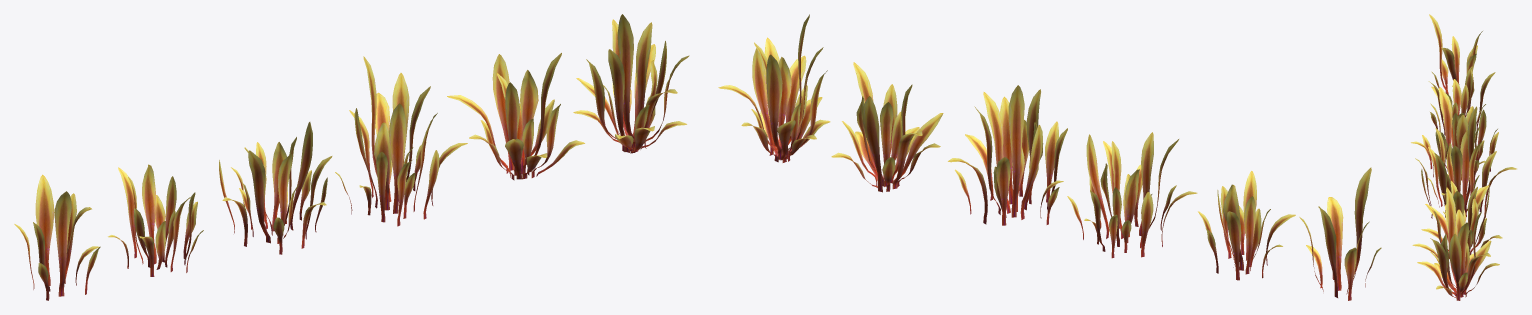
Rendered from green_reeds_relative.glb.
3 renders of one model, left to right at view 1: azimuth 30°, elevation 25°; view 2: azimuth 150°, elevation 25°; view 3: azimuth 270°, elevation 25°, orthographic. The views are drawn at different scales.
Parts seen in each view (by area): view 1: Coral_reef_green_reeds_04, Coral_reef_green_reeds_06, Coral_reef_green_reeds_05, Coral_reef_green_reeds_03, Coral_reef_green_reeds_02, Coral_reef_green_reeds_01; view 2: Coral_reef_green_reeds_04, Coral_reef_green_reeds_06, Coral_reef_green_reeds_05, Coral_reef_green_reeds_03, Coral_reef_green_reeds_02, Coral_reef_green_reeds_01; view 3: Coral_reef_green_reeds_06, Coral_reef_green_reeds_04, Coral_reef_green_reeds_03, Coral_reef_green_reeds_05, Coral_reef_green_reeds_02, Coral_reef_green_reeds_01.
Part boxes in pixels (<box>): Coral_reef_green_reeds_04: <box>335,56,467,226</box>; Coral_reef_green_reeds_06: <box>573,14,689,153</box>; Coral_reef_green_reeds_05: <box>447,53,584,180</box>; Coral_reef_green_reeds_03: <box>219,122,332,254</box>; Coral_reef_green_reeds_02: <box>108,164,203,276</box>; Coral_reef_green_reeds_01: <box>14,174,100,300</box>; Coral_reef_green_reeds_04: <box>948,85,1067,225</box>; Coral_reef_green_reeds_06: <box>718,14,830,162</box>; Coral_reef_green_reeds_05: <box>831,62,943,192</box>; Coral_reef_green_reeds_03: <box>1067,132,1197,258</box>; Coral_reef_green_reeds_02: <box>1198,171,1295,280</box>; Coral_reef_green_reeds_01: <box>1299,167,1381,300</box>; Coral_reef_green_reeds_06: <box>1412,187,1499,300</box>; Coral_reef_green_reeds_04: <box>1415,106,1516,218</box>; Coral_reef_green_reeds_03: <box>1411,87,1498,184</box>; Coral_reef_green_reeds_05: <box>1421,180,1502,258</box>; Coral_reef_green_reeds_02: <box>1428,66,1495,135</box>; Coral_reef_green_reeds_01: <box>1429,14,1482,94</box>.
Size of the model in its own units: 0.087 by 0.0189 by 0.0178.
1 material, 1 textured.
